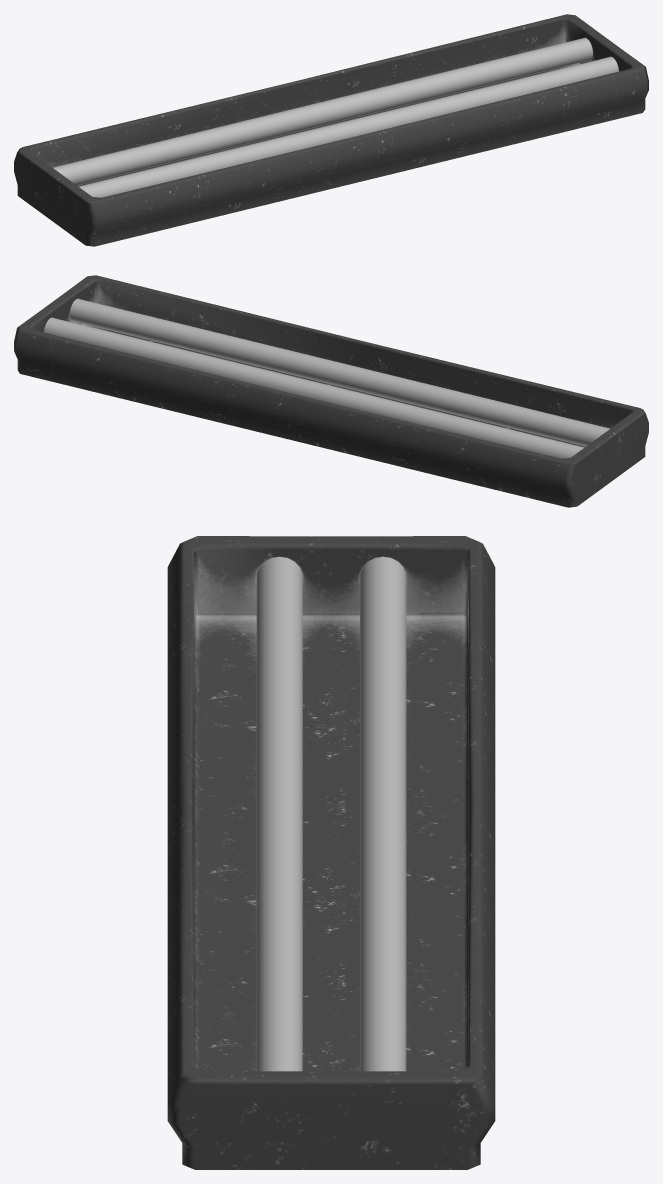
File: neon.obj
3 renders of one model, top to bottom at view 1: azimuth 30°, elevation 25°; view 2: azimuth 150°, elevation 25°; view 3: azimuth 270°, elevation 25°, orthographic. The views are drawn at different scales.
Visible parts, largest first — view 1: Plane111; view 2: Plane111; view 3: Plane111.
Boxes of the visible parts, x1,y1,x2,y2 form: Plane111: (14,14,648,246); Plane111: (14,275,648,507); Plane111: (167,536,495,1169).
Size of the model in its own units: 1 by 0.0766 by 0.2533.
Materials: 1 (1 with a texture image).
